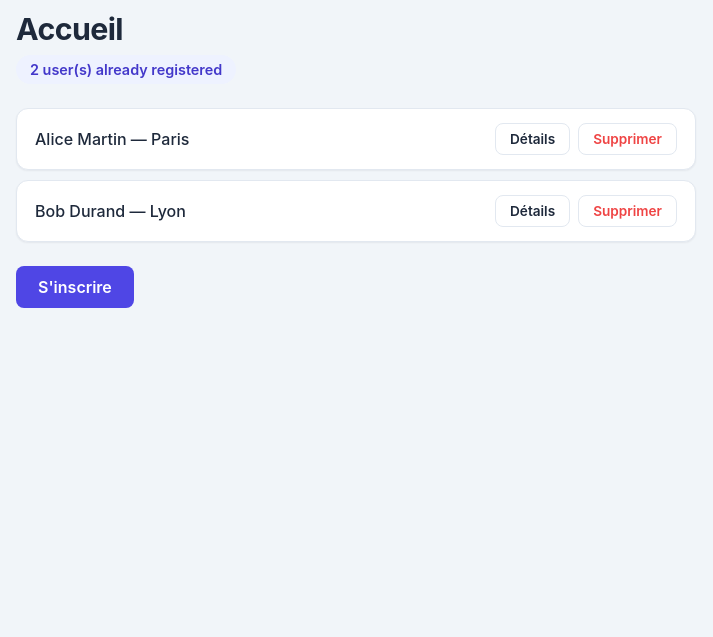
HomePage › mode admin › affiche les infos privées au clic sur Détails
Click the button with test id "detail-1".
click(533, 139)  # box 495,123 -> 570,155
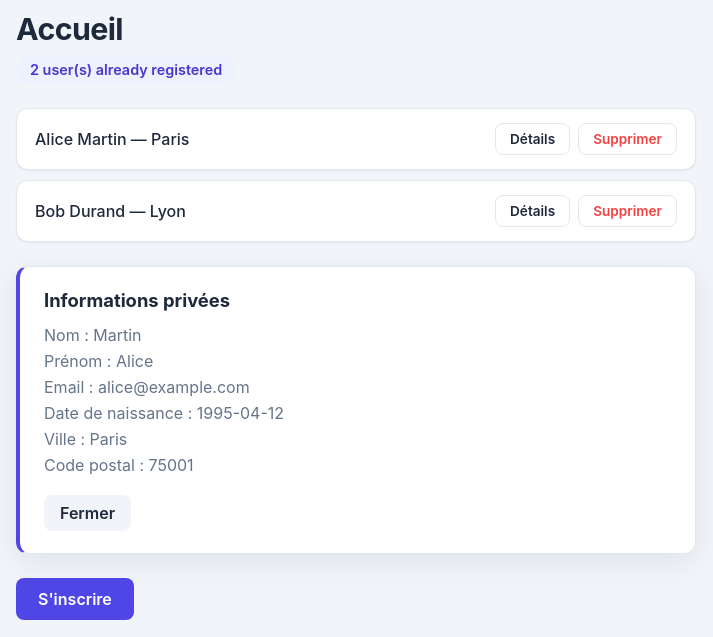
Result: the element with test id "user-detail" is shown at 16,266 -> 696,554
Result: the text "Email : alice@example.com" is shown at 44,377 -> 250,397
